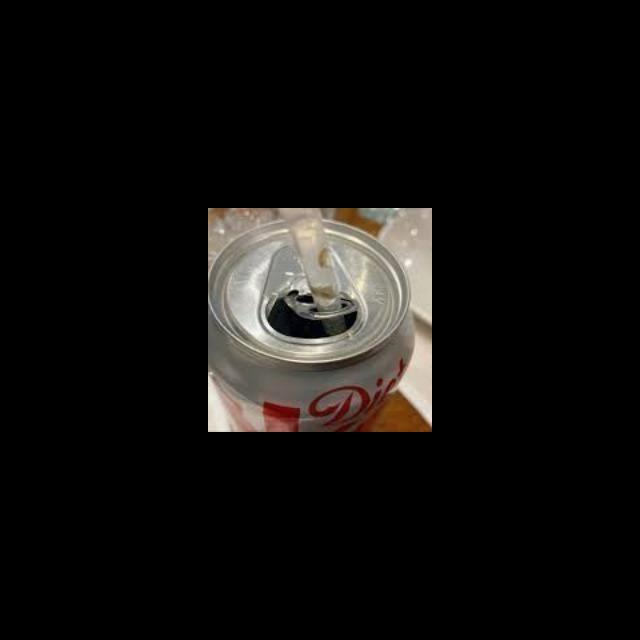metal: (208, 215, 415, 432)
